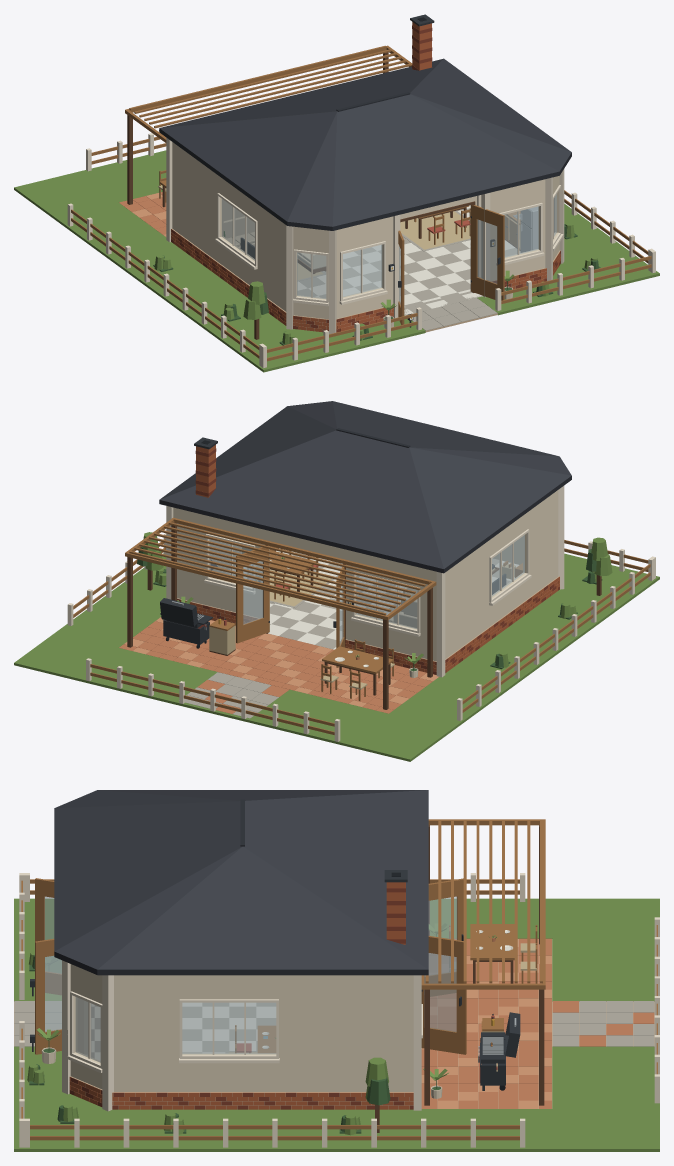
Rendered from GrillDadHouse.fbx.
The picture shows the model from 3 angles, top to bottom: view 1: azimuth 30°, elevation 25°; view 2: azimuth 150°, elevation 25°; view 3: azimuth 270°, elevation 25°; orthographic projection. The views are drawn at different scales.
Parts seen in each view (by area): view 1: Structure_Ground, Roof_Hip_Front, Roof_Hip_Left, Roof_Hip_Rear, Structure_Wall_E8_01, Roof_Hip_Right, Structure_Floor_TilesA, Structure_Floor_TilesB, Roof_Hip_ChamferL, Structure_Wall_E8_04, Roof_Hip_ChamferR, Window_FrontL_Glass (+45 smaller); view 2: Structure_Ground, Roof_Hip_Rear, Roof_Hip_Left, Patio_Paving_TilesA, Roof_Hip_Front, Structure_Wall_E8_01, Roof_Hip_Right, Structure_Wall_E8_04, Patio_Paving_TilesB, Structure_Floor_TilesB, Structure_Floor_TilesA, Structure_Wall_E7_01 (+50 smaller); view 3: Structure_Ground, Roof_Hip_Right, Roof_Hip_Rear, Roof_Hip_Front, Structure_Wall_E6_04, Patio_Paving_TilesA, Structure_Wall_E6_01, Window_Right_Glass, Fence_Side_R_Rails, Roof_Hip_ChamferR, Structure_Brick_E6_0_Light, Patio_RearPath_TilesA (+46 smaller).
Part boxes in pixels (x1,y1,x2,y2): Structure_Ground: [14, 150, 659, 372]; Roof_Hip_Front: [332, 94, 559, 226]; Roof_Hip_Left: [159, 111, 336, 221]; Roof_Hip_Rear: [160, 58, 443, 127]; Structure_Wall_E8_01: [172, 142, 223, 262]; Roof_Hip_Right: [410, 59, 570, 151]; Structure_Floor_TilesA: [298, 205, 514, 315]; Structure_Floor_TilesB: [298, 208, 520, 312]; Roof_Hip_ChamferL: [287, 112, 337, 226]; Structure_Wall_E8_04: [256, 203, 286, 311]; Roof_Hip_ChamferR: [411, 94, 571, 171]; Window_FrontL_Glass: [343, 244, 382, 297]; Structure_Ground: [14, 553, 659, 761]; Roof_Hip_Rear: [159, 430, 443, 568]; Roof_Hip_Left: [409, 447, 571, 568]; Patio_Paving_TilesA: [119, 620, 432, 713]; Roof_Hip_Front: [332, 401, 558, 456]; Structure_Wall_E8_01: [445, 540, 490, 658]; Roof_Hip_Right: [160, 406, 336, 499]; Structure_Wall_E8_04: [523, 490, 558, 599]; Patio_Paving_TilesB: [124, 617, 438, 706]; Structure_Floor_TilesB: [225, 552, 510, 649]; Structure_Floor_TilesA: [227, 548, 518, 649]; Structure_Wall_E7_01: [173, 507, 210, 605]; Structure_Ground: [14, 898, 659, 1151]; Roof_Hip_Right: [98, 846, 427, 969]; Roof_Hip_Rear: [243, 790, 428, 969]; Roof_Hip_Front: [54, 801, 241, 951]; Structure_Wall_E6_04: [276, 975, 413, 1091]; Patio_Paving_TilesA: [421, 938, 551, 1108]; Structure_Wall_E6_01: [114, 975, 182, 1091]; Window_Right_Glass: [182, 1002, 276, 1054]; Fence_Side_R_Rails: [30, 1125, 519, 1140]; Roof_Hip_ChamferR: [54, 847, 241, 969]; Structure_Brick_E6_0_Light: [112, 1092, 413, 1109]; Patio_RearPath_TilesA: [552, 1001, 654, 1046].
Bounding box in the file's own units: 44 × 18.12 × 48.
